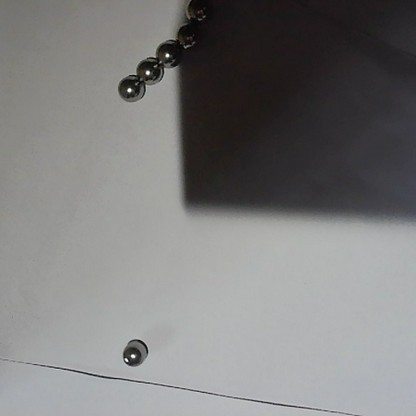ironball: (118, 71, 146, 103), (119, 338, 147, 368), (136, 55, 163, 85), (156, 37, 181, 68), (182, 1, 216, 23), (176, 25, 199, 51)
